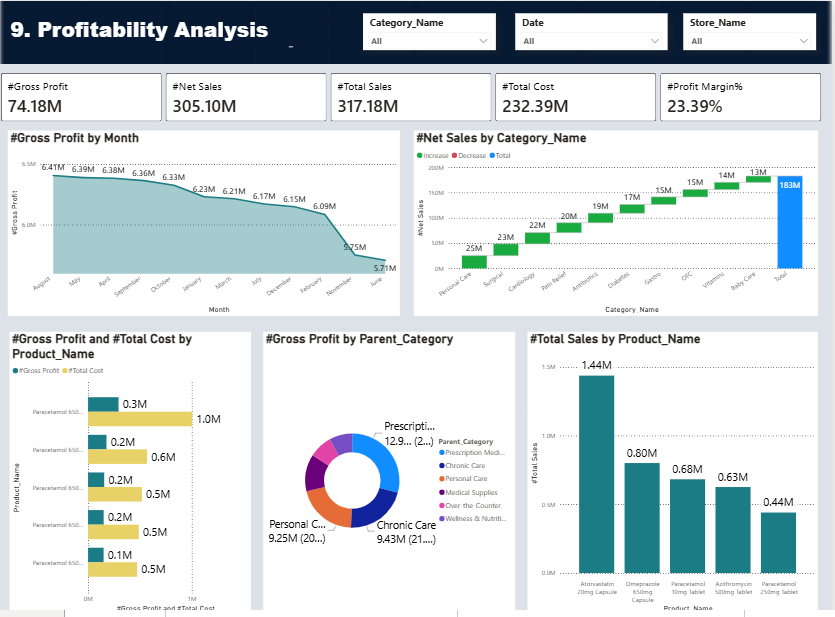

What the dashboard file says about the page in this screenshot:
{"tool":"powerbi","page":{"name":"9. Profitability Analysis","canvas":[1600,1200],"ordinal":9},"visuals":[{"type":"image","box":[0,0,1600,120],"z":0},{"type":"textbox","title":"9. Profitability Analysis","box":[30,26.7,548.3,66.7],"z":1000},{"type":"slicer","fields":{"Values":["Dim_Date_Clean.Date"]},"box":[996.7,23.3,290,70],"z":2000},{"type":"slicer","fields":{"Values":["Dim_Store.Store_Name"]},"box":[1316.7,23.3,253.3,70],"z":3000},{"type":"cardVisual","fields":{"Data":["Fact_Sales_Clean (1).#Gross Profit","Fact_Sales_Clean (1).#Net Sales","Fact_Sales_Clean (1).#Total Sales","Fact_Sales_Clean (1).#Total Cost","Fact_Sales_Clean (1).#Profit Margin%"]},"box":[0,120,1600,126.7],"z":4000},{"type":"areaChart","fields":{"Category":["Dim_Date_Clean.Month"],"Y":["Fact_Sales_Clean (1).#Gross Profit"]},"box":[30,246.7,746.7,353.3],"z":5000},{"type":"clusteredBarChart","fields":{"Category":["Dim_Product.Product_Name"],"Y":["Fact_Sales_Clean (1).#Gross Profit","Fact_Sales_Clean (1).#Total Cost"]},"box":[33.3,630,460,540],"z":6000},{"type":"donutChart","fields":{"Category":["Dim_Category.Parent_Category"],"Y":["Fact_Sales_Clean (1).#Gross Profit"]},"box":[516.7,630,480,540],"z":7000},{"type":"waterfallChart","fields":{"Category":["Dim_Category.Category_Name"],"Y":["Fact_Sales_Clean (1).#Net Sales"]},"box":[803.3,246.7,770,353.3],"z":8000},{"type":"lineStackedColumnComboChart","fields":{"Category":["Dim_Product.Product_Name"],"Y":["Fact_Sales_Clean (1).#Total Sales"]},"box":[1020,630,553.3,540],"z":9000},{"type":"slicer","fields":{"Values":["Dim_Category.Category_Name"]},"box":[706.7,23.3,253.3,70],"z":10000}]}

Visuals, with their boxes in screenshot pixels (x1, y1, x2, y2), scaled from the page's 1600x1200 canvas onto the 835x617 screenshot:
image: (x1=0, y1=0, x2=834, y2=62)
"9. Profitability Analysis" textbox: (x1=16, y1=14, x2=302, y2=48)
slicer - Dim_Date_Clean.Date: (x1=520, y1=12, x2=671, y2=48)
slicer - Dim_Store.Store_Name: (x1=687, y1=12, x2=819, y2=48)
cardVisual - Fact_Sales_Clean (1).#Gross Profit x Fact_Sales_Clean (1).#Net Sales: (x1=0, y1=62, x2=834, y2=127)
areaChart - Dim_Date_Clean.Month x Fact_Sales_Clean (1).#Gross Profit: (x1=16, y1=127, x2=405, y2=308)
clusteredBarChart - Dim_Product.Product_Name x Fact_Sales_Clean (1).#Gross Profit: (x1=17, y1=324, x2=257, y2=602)
donutChart - Dim_Category.Parent_Category x Fact_Sales_Clean (1).#Gross Profit: (x1=270, y1=324, x2=520, y2=602)
waterfallChart - Dim_Category.Category_Name x Fact_Sales_Clean (1).#Net Sales: (x1=419, y1=127, x2=821, y2=308)
lineStackedColumnComboChart - Dim_Product.Product_Name x Fact_Sales_Clean (1).#Total Sales: (x1=532, y1=324, x2=821, y2=602)
slicer - Dim_Category.Category_Name: (x1=369, y1=12, x2=501, y2=48)
